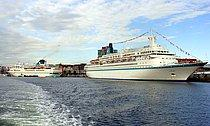Ship: (82, 27, 210, 85)
